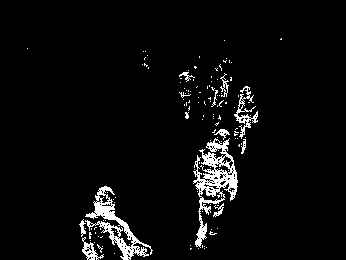person: (190, 127, 239, 251), (78, 185, 155, 260), (232, 84, 260, 154)
